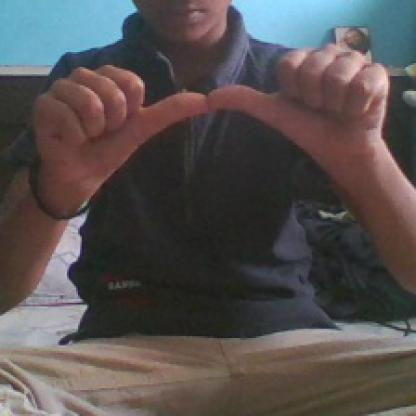A: (24, 50, 396, 186)
